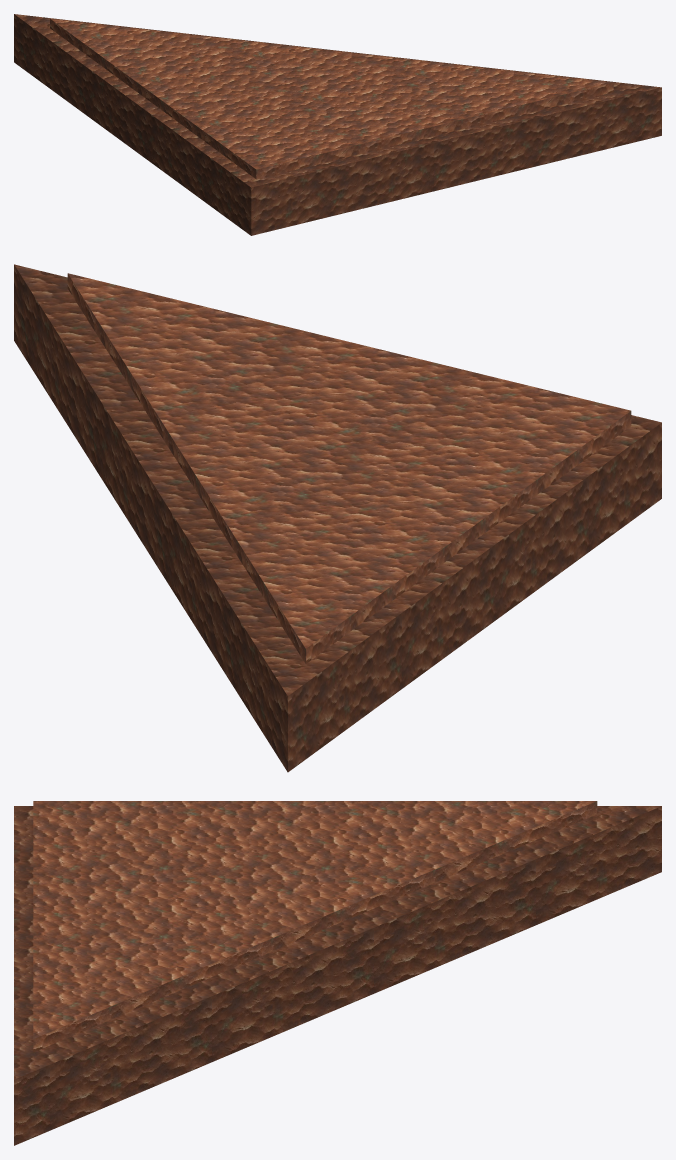
File: floor_triangle__copper_ingot.glb
3 renders of one model, top to bottom at view 1: azimuth 30°, elevation 25°; view 2: azimuth 150°, elevation 25°; view 3: azimuth 270°, elevation 25°, orthographic. The views are drawn at different scales.
Parts seen in each view (by area): view 1: model; view 2: model; view 3: model.
Boxes of the visible parts, <box> form: model: <box>14,14,661,235</box>; model: <box>14,264,661,772</box>; model: <box>14,801,661,1145</box>.
Size of the model in its own units: 2 by 0.27 by 2.
Materials: 2 (2 with a texture image).
